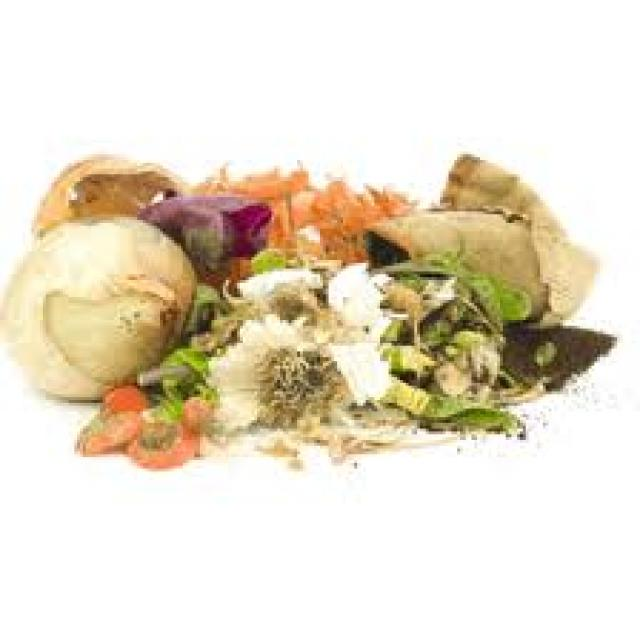organic waste: (363, 149, 594, 314), (3, 214, 191, 397), (200, 300, 391, 440), (31, 151, 180, 243), (383, 245, 500, 328), (137, 191, 266, 263), (492, 326, 617, 394), (232, 263, 334, 343), (134, 337, 217, 406), (408, 392, 523, 437), (180, 280, 249, 351), (377, 269, 449, 337), (120, 406, 197, 460), (328, 423, 403, 460), (480, 271, 534, 320), (446, 329, 500, 377), (257, 194, 294, 263), (360, 229, 406, 277), (77, 411, 140, 446), (100, 377, 154, 417), (374, 380, 432, 414), (317, 217, 366, 257), (252, 429, 308, 460), (197, 254, 246, 289), (426, 354, 474, 389), (177, 388, 214, 432), (312, 174, 354, 212), (360, 180, 411, 211), (383, 337, 431, 369), (348, 186, 392, 220), (186, 160, 231, 191), (263, 163, 308, 194), (286, 186, 317, 223), (246, 243, 291, 268), (294, 226, 317, 257), (529, 337, 554, 363), (474, 374, 500, 394)
